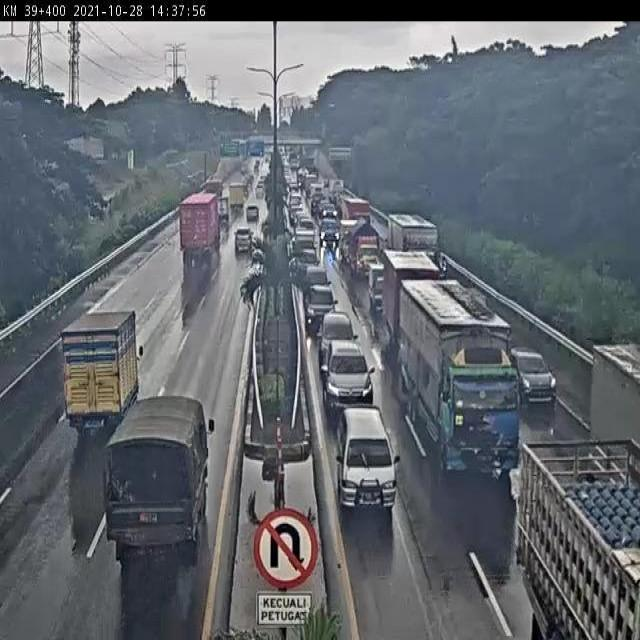car: (509, 341, 558, 404), (210, 198, 232, 230)
truck-l-: (399, 280, 521, 480)
truck-m-: (102, 400, 209, 573), (61, 313, 135, 431)
truck-s-: (229, 180, 249, 219)
truck-xl-: (178, 193, 223, 270)
